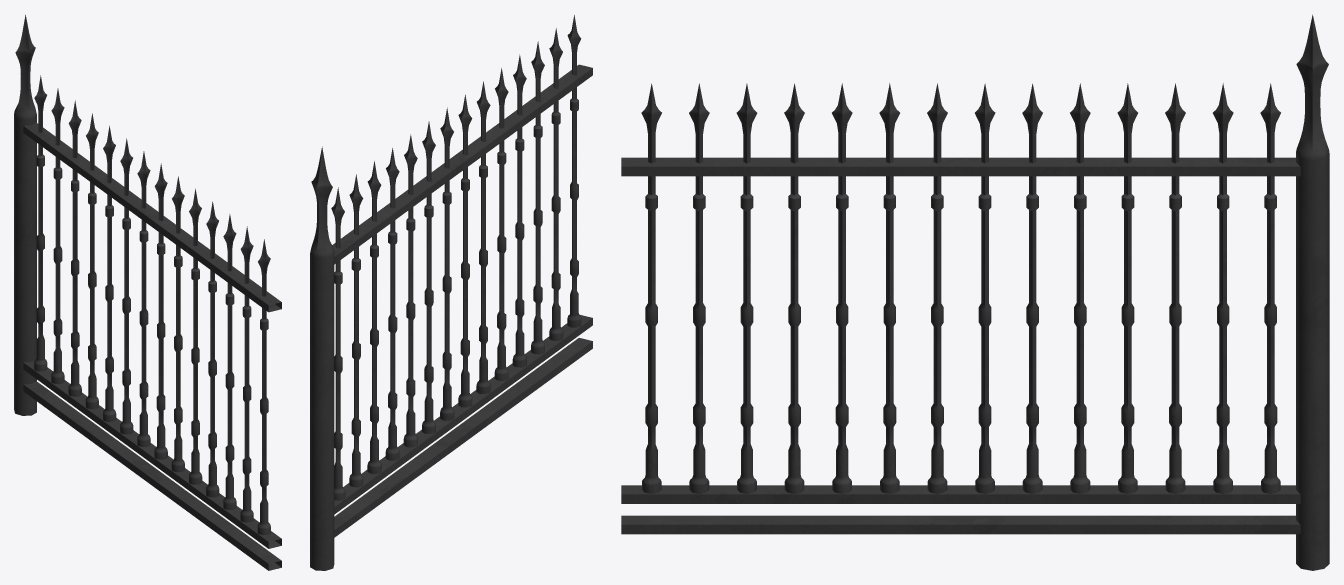
The model's file is SM_RailingA2.fbx.
3 views of the same model, side by side, from view 1: azimuth 30°, elevation 25°; view 2: azimuth 150°, elevation 25°; view 3: azimuth 270°, elevation 25° (orthographic). The views are drawn at different scales.
Visible parts, largest first — view 1: SM_RailingA2_LOD0; view 2: SM_RailingA2_LOD0; view 3: SM_RailingA2_LOD0.
Boxes of the visible parts, left/top/right/bottom form: SM_RailingA2_LOD0: left=14, top=15, right=281, bottom=570; SM_RailingA2_LOD0: left=310, top=15, right=592, bottom=570; SM_RailingA2_LOD0: left=621, top=14, right=1329, bottom=570.
Bounding box in the file's own units: 9.58 × 201 × 173.
Materials: 1 (1 with a texture image).
